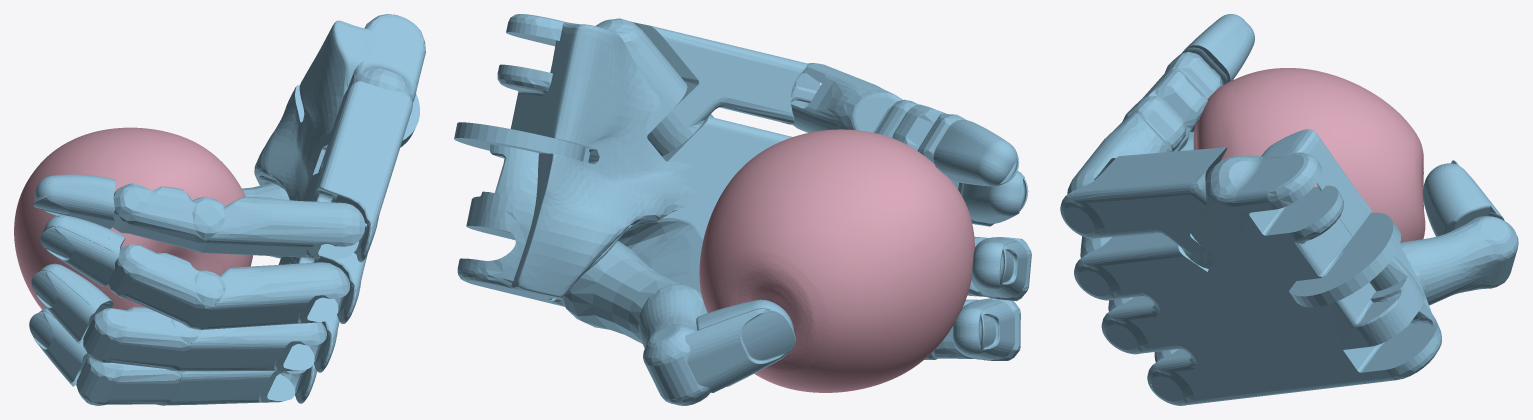
The picture shows the model from 3 angles, left to right: view 1: azimuth 30°, elevation 25°; view 2: azimuth 150°, elevation 25°; view 3: azimuth 270°, elevation 25°; orthographic projection. The views are drawn at different scales.
Visible parts, largest first — view 1: world; view 2: world; view 3: world.
Boxes of the visible parts, bbox=[...] form: world: bbox=[14, 14, 425, 405]; world: bbox=[454, 14, 1031, 405]; world: bbox=[1060, 14, 1518, 405].
Bounding box in the file's own units: 0.165 × 0.1124 × 0.1423.
